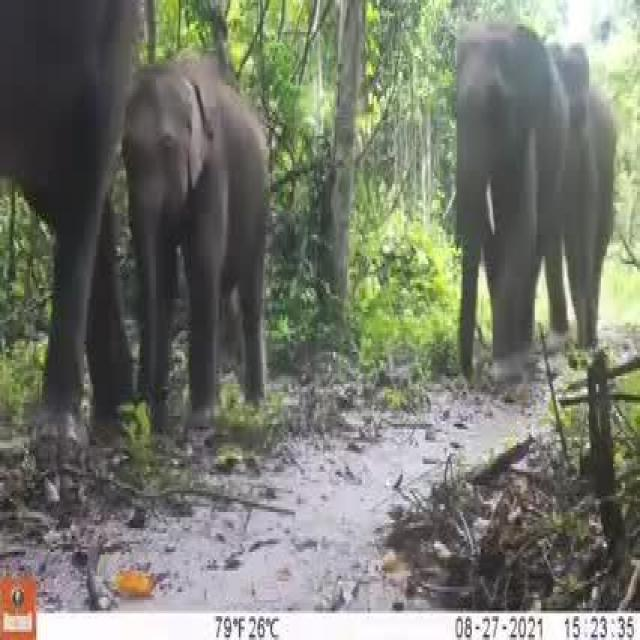Elephant: (120, 48, 277, 386), (450, 27, 560, 339), (541, 29, 617, 316)
